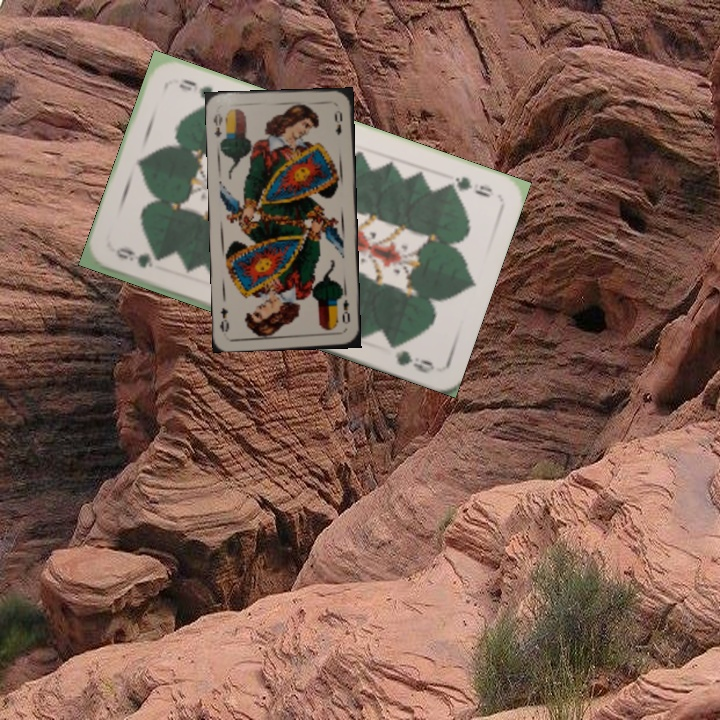EO: (209, 109, 225, 139), (338, 296, 352, 326)
G9: (440, 172, 495, 200), (111, 243, 162, 271)
